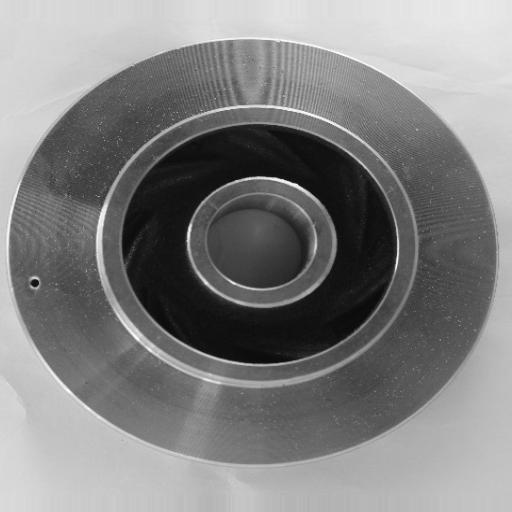pit: (20, 272, 49, 300)
unpolished_casting: (5, 35, 499, 468)
